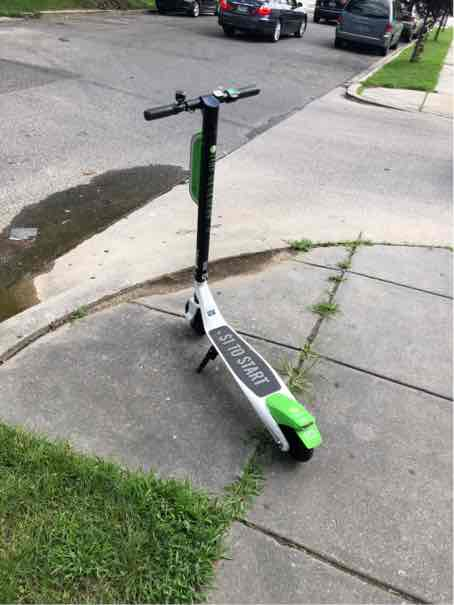scooter: (139, 76, 336, 454)
